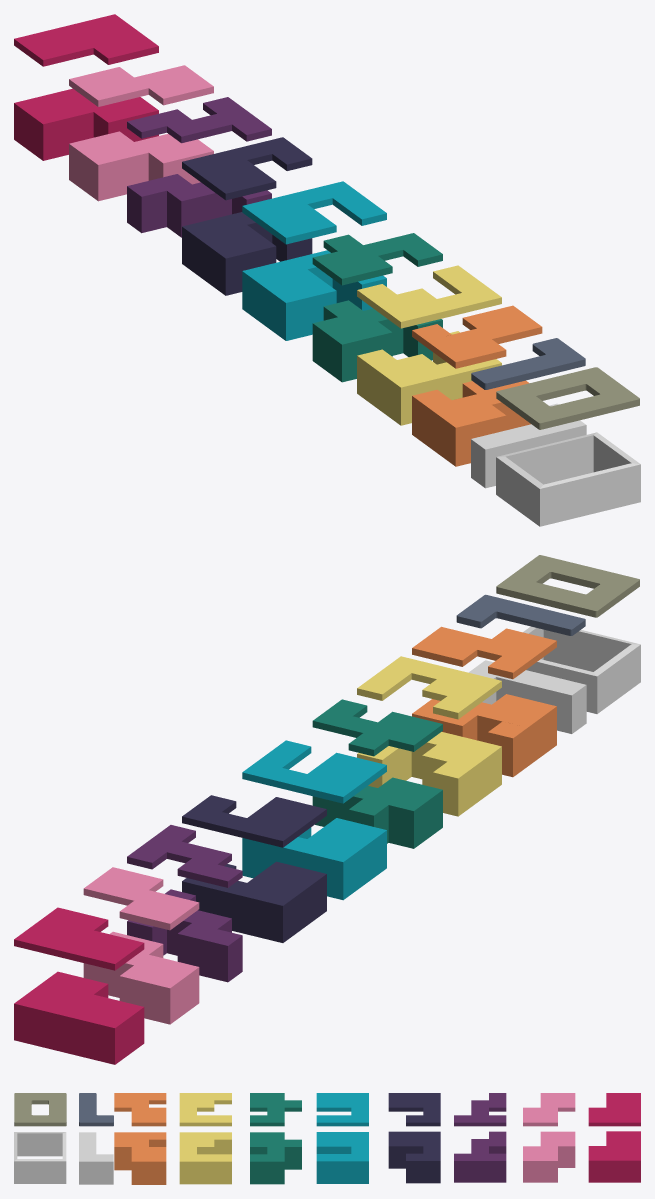
Rendered from tokens.glb.
3 views of the same model, one above another, from view 1: azimuth 30°, elevation 25°; view 2: azimuth 150°, elevation 25°; view 3: azimuth 270°, elevation 25° (orthographic). The views are drawn at different scales.
Visible parts, largest first — view 1: glow0, glow5, glow8, glow9, glow6, glow2, glow4, glow3, nmbr0, glow7, nmbr5, nmbr9 (+8 smaller); view 2: glow9, glow6, glow5, glow3, glow2, glow0, glow8, glow4, nmbr0, nmbr5, glow7, nmbr9 (+8 smaller); view 3: glow3, glow5, glow0, glow2, glow6, glow9, glow4, glow7, glow8, nmbr5, nmbr0, nmbr3 (+8 smaller).
Part boxes in pixels (<box>): glow0: <box>496,432,640,526</box>; glow5: <box>242,250,386,340</box>; glow8: <box>69,131,213,201</box>; glow9: <box>14,88,158,160</box>; glow6: <box>182,212,312,295</box>; glow2: <box>412,380,530,466</box>; glow4: <box>312,300,442,382</box>; glow3: <box>357,331,501,425</box>; nmbr0: <box>496,367,639,429</box>; glow7: <box>127,174,271,237</box>; nmbr5: <box>242,181,386,244</box>; nmbr9: <box>14,14,158,66</box>; glow9: <box>14,971,144,1064</box>; glow6: <box>182,861,326,942</box>; glow5: <box>242,818,386,900</box>; glow3: <box>357,732,501,816</box>; glow2: <box>412,694,556,777</box>; glow0: <box>523,626,640,713</box>; glow8: <box>83,931,199,1024</box>; glow4: <box>312,777,442,848</box>; nmbr0: <box>496,555,639,617</box>; nmbr5: <box>242,740,386,803</box>; glow7: <box>127,889,242,982</box>; nmbr9: <box>14,907,144,970</box>; glow3: <box>179,1132,231,1184</box>; glow5: <box>316,1132,368,1183</box>; glow0: <box>14,1132,66,1183</box>; glow2: <box>114,1132,166,1184</box>; glow6: <box>388,1131,440,1183</box>; glow9: <box>588,1131,640,1182</box>; glow4: <box>250,1132,301,1184</box>; glow7: <box>454,1131,506,1182</box>; glow8: <box>523,1131,575,1182</box>; nmbr5: <box>316,1093,368,1126</box>; nmbr0: <box>14,1093,66,1126</box>; nmbr3: <box>179,1093,231,1126</box>.
Size of the model in its own units: 8 by 7.91 by 72.07.
9 materials, 9 textured.
